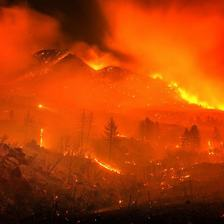fire: (31, 21, 223, 116), (30, 123, 167, 186)
